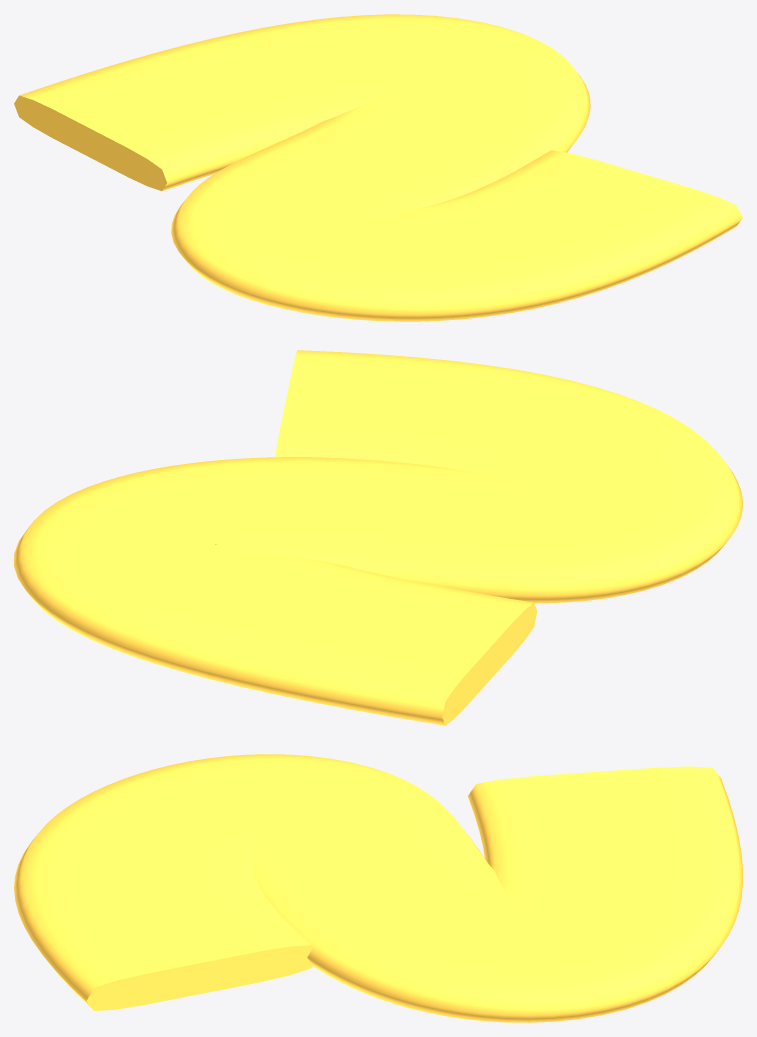
File: 260808_MayoSauce_big_01.fbx
3 renders of one model, top to bottom at view 1: azimuth 30°, elevation 25°; view 2: azimuth 150°, elevation 25°; view 3: azimuth 270°, elevation 25°, orthographic. The views are drawn at different scales.
Visible parts, largest first — view 1: Mayo_Big\; view 2: Mayo_Big\; view 3: Mayo_Big\.
Boxes of the visible parts, x1,y1,x2,y2 form: Mayo_Big\: (14,14,742,321); Mayo_Big\: (14,350,742,725); Mayo_Big\: (14,754,742,1022).
Size of the model in its own units: 93.14 by 5.31 by 114.
